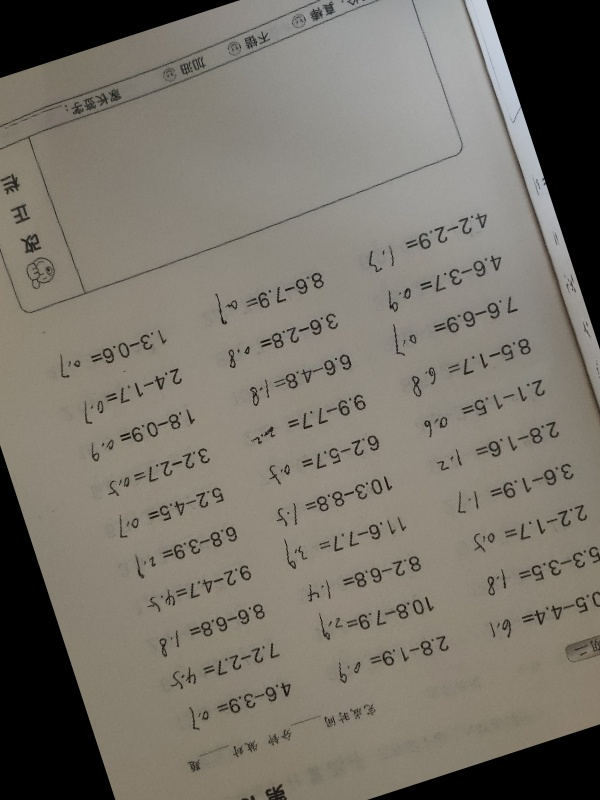equation: (352, 205, 495, 268), (379, 297, 529, 356), (367, 252, 515, 308), (39, 321, 172, 383), (274, 510, 418, 567), (263, 474, 402, 530), (255, 431, 396, 486), (394, 340, 535, 395), (236, 397, 376, 451), (92, 441, 219, 498), (291, 553, 427, 606), (317, 589, 443, 646), (463, 504, 597, 557), (144, 599, 273, 652), (446, 462, 577, 514), (173, 676, 296, 730), (66, 368, 190, 420), (127, 563, 253, 614), (106, 485, 229, 535), (74, 413, 199, 462), (434, 422, 561, 470), (128, 521, 244, 573), (421, 383, 547, 430), (166, 640, 281, 691), (213, 266, 325, 318), (482, 543, 600, 592), (334, 632, 450, 679), (223, 317, 341, 363), (489, 590, 600, 638), (245, 355, 354, 399)
